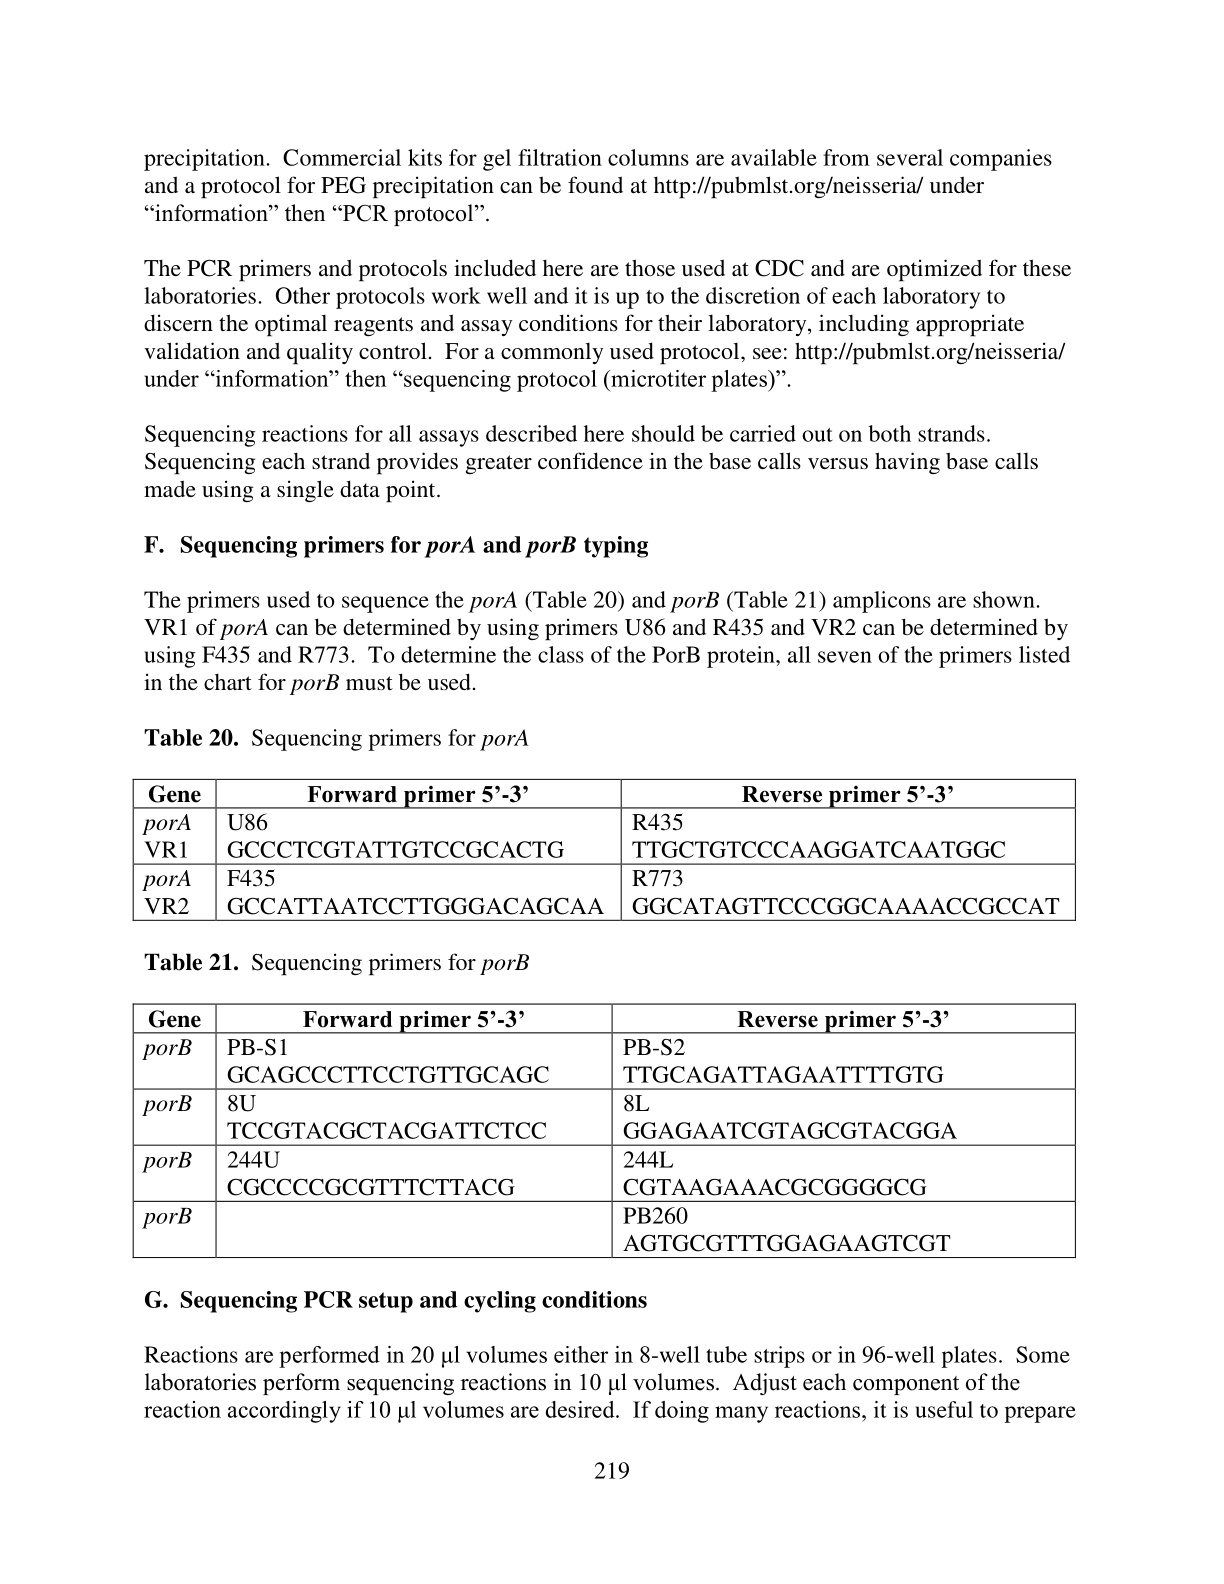full_lined: (131, 1002, 1076, 1257), (131, 777, 1076, 921)
